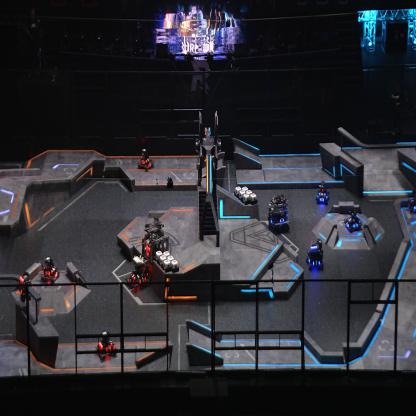car: (142, 219, 170, 263), (125, 253, 151, 292), (267, 193, 290, 232), (96, 330, 117, 362), (305, 238, 324, 270), (40, 255, 60, 285), (343, 206, 362, 234), (314, 180, 330, 206), (138, 148, 155, 172), (408, 188, 416, 217)
